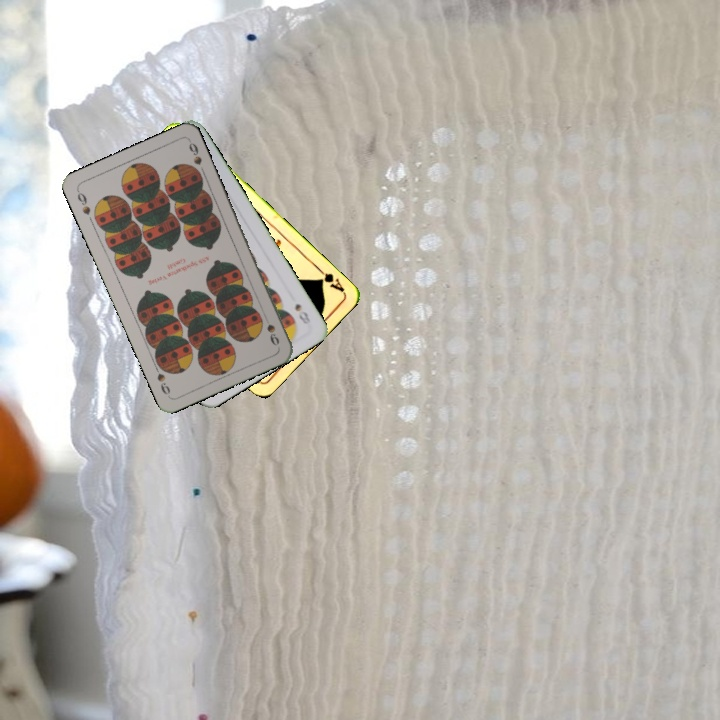GA: (313, 263, 347, 295)
S8: (291, 299, 313, 327)
S9: (259, 310, 282, 348), (73, 186, 93, 218)
